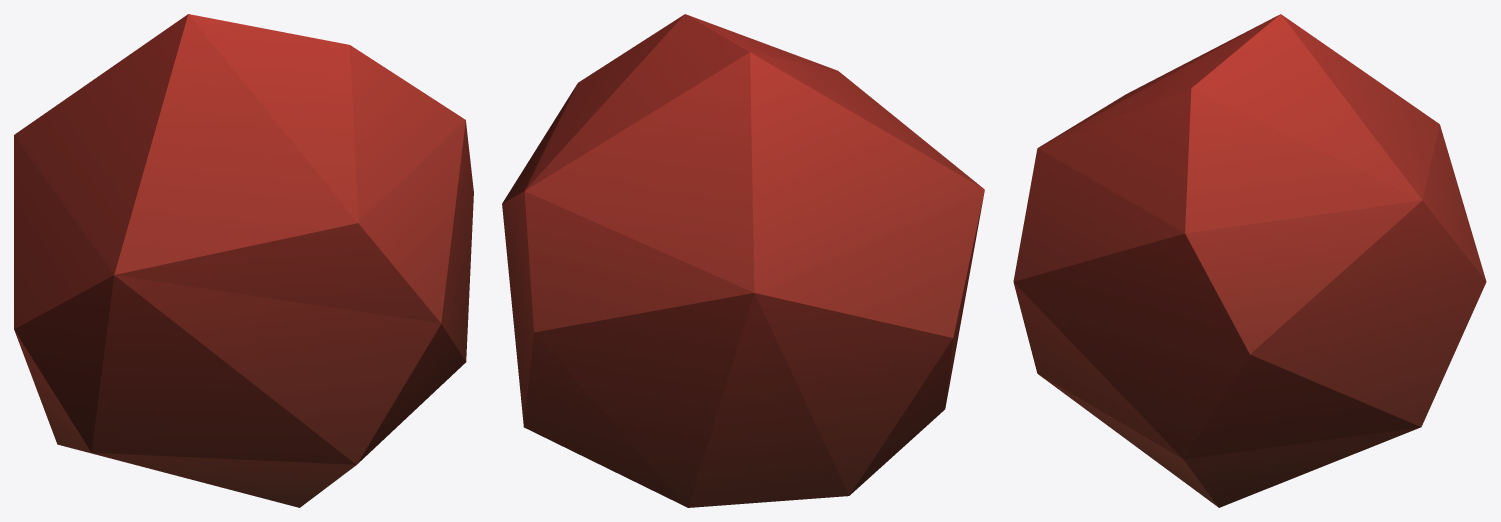
Rendered from Acólito.fbx.
3 views of the same model, side by side, from view 1: azimuth 30°, elevation 25°; view 2: azimuth 150°, elevation 25°; view 3: azimuth 270°, elevation 25° (orthographic). The views are drawn at different scales.
Visible parts, largest first — view 1: Icosphere; view 2: Icosphere; view 3: Icosphere.
Part boxes in pixels (box(x1,y1,x2,y2)): Icosphere: box(14, 14, 473, 507); Icosphere: box(502, 14, 984, 507); Icosphere: box(1013, 14, 1486, 507).
Bounding box in the file's own units: 209 × 212 × 199.
